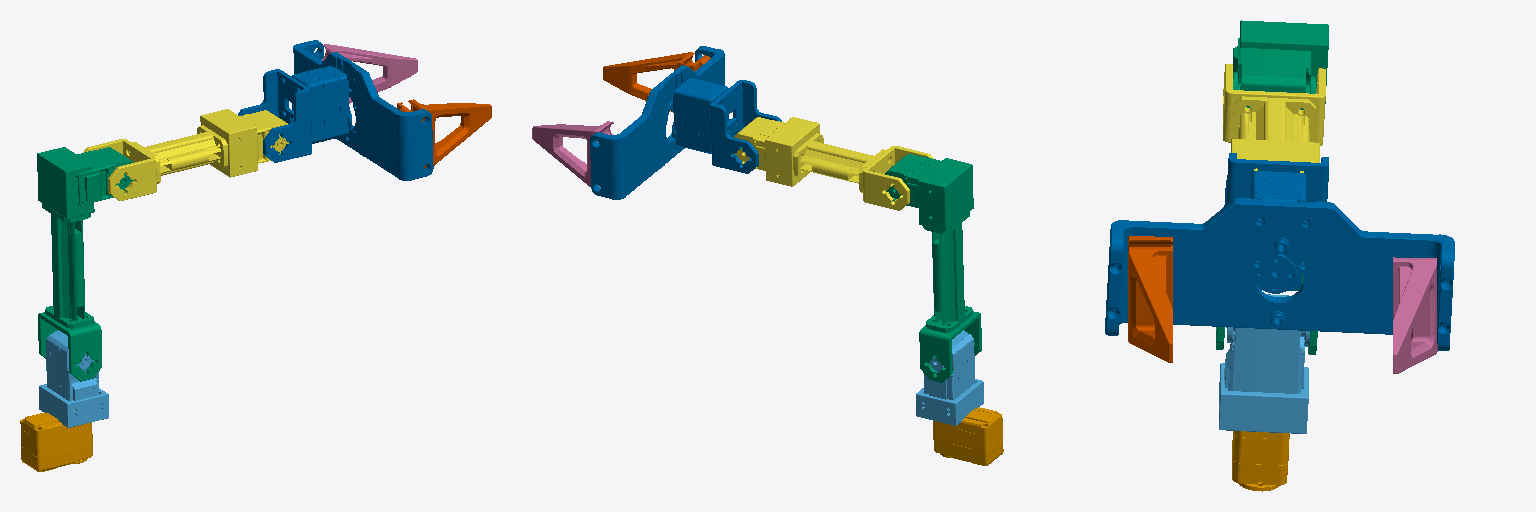
The robot description file, URDF, robot "my_robot":
<?xml version="1.0"?>
<!--
  Robot: my_robot
  Generated by: LinkForge v1.1.0
  https://github.com/arounamounchili/linkforge
  Date: 2026-01-23 12:39:54
-->
<robot name="my_robot">
  <!-- Links -->
  <link name="link1">
    <visual>
      <geometry>
        <mesh filename="meshes\link1_visual.stl" />
      </geometry>
    </visual>
    <collision>
      <origin xyz="-0.208339 0.066752 0.052332" rpy="-0.050738 0 0" />
      <geometry>
        <mesh filename="meshes\link1_collision.stl" />
      </geometry>
    </collision>
    <inertial>
      <mass value="0.1" />
      <inertia ixx="0.00154" ixy="0" ixz="-0.000024" iyy="0.00269" iyz="0" izz="0.002106" />
    </inertial>
  </link>
  <link name="link2">
    <visual>
      <geometry>
        <mesh filename="meshes\link2_visual.stl" />
      </geometry>
    </visual>
    <collision>
      <origin xyz="-0.207332 0.003731 0.980145" rpy="-0.050738 0 0" />
      <geometry>
        <mesh filename="meshes\link2_collision.stl" />
      </geometry>
    </collision>
    <inertial>
      <mass value="0.1" />
      <inertia ixx="0.003707" ixy="0" ixz="0.000017" iyy="0.003221" iyz="-0.000026" izz="0.001986" />
    </inertial>
  </link>
  <link name="link3">
    <visual>
      <geometry>
        <mesh filename="meshes\link3_visual.stl" />
      </geometry>
    </visual>
    <collision>
      <origin xyz="-0.121278 0.2894 0.747684" rpy="-0.050738 0 0" />
      <geometry>
        <mesh filename="meshes\link3_collision.stl" />
      </geometry>
    </collision>
    <inertial>
      <mass value="0.1" />
      <inertia ixx="0.019626" ixy="0.000121" ixz="-0.00203" iyy="0.019931" iyz="0.000216" izz="0.003385" />
    </inertial>
  </link>
  <link name="link4">
    <visual>
      <geometry>
        <mesh filename="meshes\link4_visual.stl" />
      </geometry>
    </visual>
    <collision>
      <origin xyz="2.292761 -0.454141 2.208923" rpy="-0.050738 0 0" />
      <geometry>
        <mesh filename="meshes\link4_collision.stl" />
      </geometry>
    </collision>
    <inertial>
      <mass value="0.1" />
      <inertia ixx="0.002197" ixy="0.000115" ixz="-0.000047" iyy="0.016715" iyz="0" izz="0.017499" />
    </inertial>
  </link>
  <link name="link5">
    <visual>
      <geometry>
        <mesh filename="meshes\link5_visual.stl" />
      </geometry>
    </visual>
    <collision>
      <origin xyz="1.520565 0.20001 2.06356" rpy="-0.050738 0 0" />
      <geometry>
        <mesh filename="meshes\link5_collision.stl" />
      </geometry>
    </collision>
    <inertial>
      <mass value="0.1" />
      <inertia ixx="0.015384" ixy="-0.000151" ixz="0.000384" iyy="0.00856" iyz="0.000017" izz="0.019202" />
    </inertial>
  </link>
  <link name="gripper_right_palm">
    <visual>
      <geometry>
        <mesh filename="meshes\gripper_right_palm_visual.stl" />
      </geometry>
    </visual>
    <collision>
      <origin xyz="2.469342 -0.40456 2.132662" rpy="0 0 0" />
      <geometry>
        <mesh filename="meshes\gripper_right_palm_collision.stl" />
      </geometry>
    </collision>
    <inertial>
      <mass value="0.1" />
      <inertia ixx="0.001547" ixy="-0.000338" ixz="0.000178" iyy="0.004075" iyz="0.000019" izz="0.003106" />
    </inertial>
  </link>
  <link name="gripper_left_palm">
    <visual>
      <geometry>
        <mesh filename="meshes\gripper_left_palm_visual.stl" />
      </geometry>
    </visual>
    <collision>
      <origin xyz="2.259184 0.803103 1.962756" rpy="0.002593 0 0" />
      <geometry>
        <mesh filename="meshes\gripper_left_palm_collision.stl" />
      </geometry>
    </collision>
    <inertial>
      <mass value="0.1" />
      <inertia ixx="0.001547" ixy="0.000338" ixz="-0.000178" iyy="0.004075" iyz="0.000019" izz="0.003106" />
    </inertial>
  </link>
  <!-- Joints -->
  <joint name="link2_joint" type="revolute">
    <parent link="link1" />
    <child link="link2" />
    <axis xyz="0 0 1" />
    <limit effort="5" velocity="1" lower="-3.141593" upper="3.141593" />
  </joint>
  <joint name="link3_joint" type="revolute">
    <parent link="link2" />
    <child link="link3" />
    <axis xyz="0 1 0" />
    <limit effort="5" velocity="1" lower="-3.141593" upper="3.141593" />
  </joint>
  <joint name="link4_joint" type="revolute">
    <parent link="link3" />
    <child link="link4" />
    <axis xyz="0 1 0" />
    <limit effort="5" velocity="1" lower="-3.141593" upper="3.141593" />
  </joint>
  <joint name="link5_joint" type="revolute">
    <parent link="link4" />
    <child link="link5" />
    <axis xyz="0 0 1" />
    <limit effort="5" velocity="1" lower="-3.141593" upper="3.141593" />
  </joint>
  <joint name="gripper_right_palm_joint" type="prismatic">
    <parent link="link5" />
    <child link="gripper_right_palm" />
    <axis xyz="0 1 0" />
    <limit effort="4" velocity="1" lower="-0.005" upper="0.004" />
  </joint>
  <joint name="gripper_left_palm_joint" type="prismatic">
    <parent link="link5" />
    <child link="gripper_left_palm" />
    <axis xyz="0 1 0" />
    <limit effort="4" velocity="1" lower="-0.005" upper="0.004" />
    <mimic joint="gripper_right_palm_joint" />
  </joint>
</robot>

--- Render facts (derived) ---
3 views of the same robot in one strip: view 1: azimuth 30°, elevation 25°; view 2: azimuth 150°, elevation 25°; view 3: azimuth 270°, elevation 25° (orthographic).
Robot: my_robot — 7 links, 6 joints (4 revolute, 2 prismatic); root link link1; default pose: every joint at zero.
Visible links, largest first — view 1: link5, link3, link4, link2, link1, gripper_right_palm, gripper_left_palm; view 2: link5, link3, link4, link2, link1, gripper_left_palm, gripper_right_palm; view 3: link5, link2, link4, link3, gripper_right_palm, gripper_left_palm, link1.
Link boxes in pixels (x1,y1,x2,y2): link5: [238, 40, 433, 180]; link3: [37, 147, 133, 381]; link4: [83, 109, 288, 200]; link2: [39, 330, 108, 427]; link1: [20, 409, 92, 471]; gripper_right_palm: [397, 99, 491, 168]; gripper_left_palm: [322, 44, 417, 103]; link5: [590, 46, 781, 199]; link3: [885, 154, 981, 382]; link4: [734, 117, 933, 210]; link2: [916, 330, 983, 425]; link1: [933, 407, 1003, 465]; gripper_left_palm: [532, 121, 613, 187]; gripper_right_palm: [603, 52, 710, 112]; link5: [1105, 153, 1454, 350]; link2: [1219, 294, 1309, 433]; link4: [1223, 64, 1325, 172]; link3: [1216, 20, 1328, 354]; gripper_right_palm: [1128, 236, 1172, 362]; gripper_left_palm: [1393, 257, 1437, 373]; link1: [1232, 431, 1289, 491].
Bounding box of the posed robot: 3.42 × 1.56 × 2.44 m (x, y, z).
Meshes: 7 distinct files referenced, 7 mesh visuals loaded (7 binary STL).